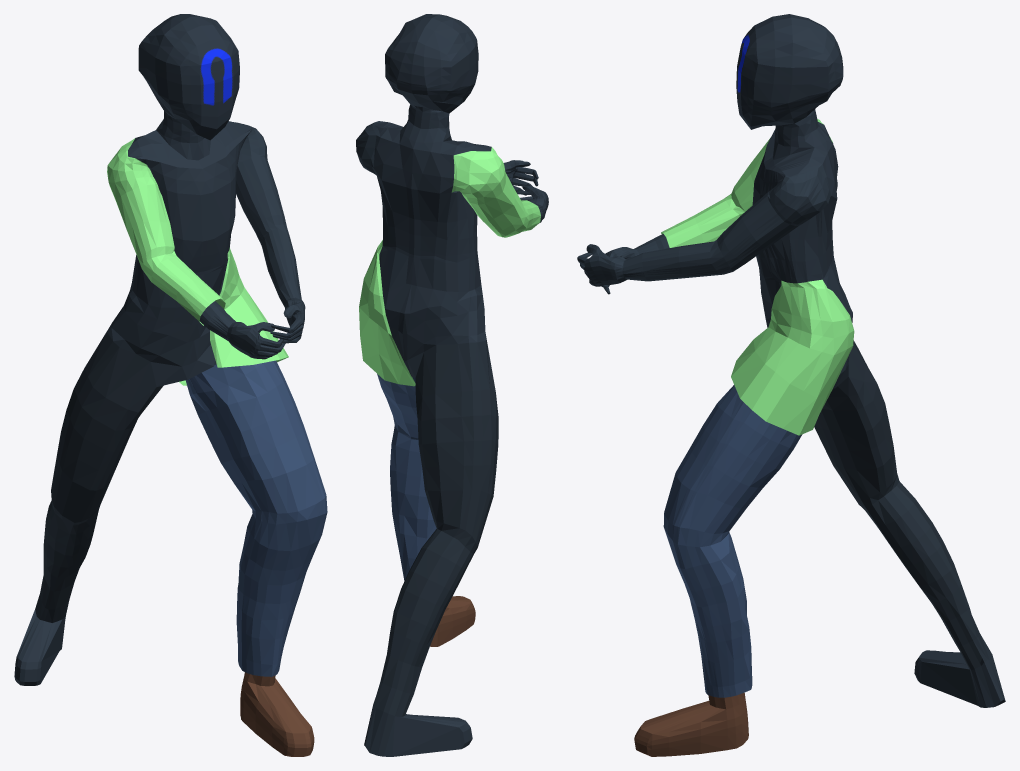
Rendered from Mar_Stun_000002.obj.
3 renders of one model, left to right at view 1: azimuth 30°, elevation 25°; view 2: azimuth 150°, elevation 25°; view 3: azimuth 270°, elevation 25°, orthographic. The views are drawn at different scales.
Parts seen in each view (by area): view 1: Cube.000_Cube.001; view 2: Cube.000_Cube.001; view 3: Cube.000_Cube.001.
Boxes of the visible parts, x1,y1,x2,y2 form: Cube.000_Cube.001: [14, 14, 327, 756]; Cube.000_Cube.001: [356, 14, 548, 756]; Cube.000_Cube.001: [577, 14, 1005, 756].
Bounding box in the file's own units: 1.09 × 3.75 × 2.04.
